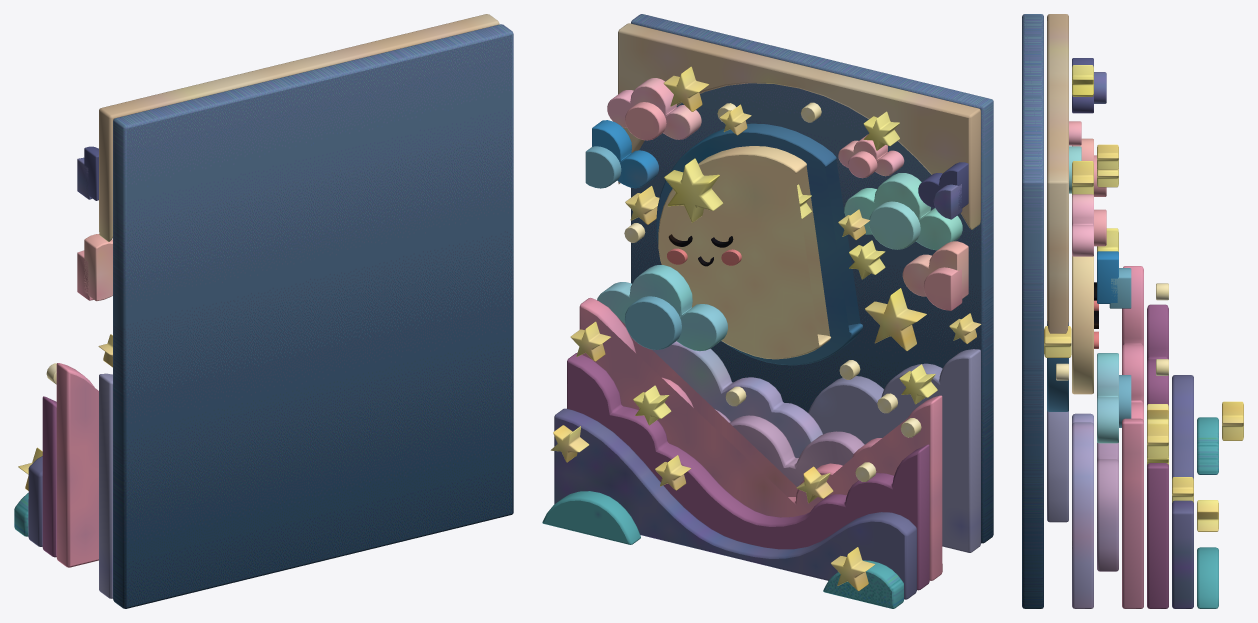
File: Level_P_35.fbx
3 views of the same model, side by side, from view 1: azimuth 30°, elevation 25°; view 2: azimuth 150°, elevation 25°; view 3: azimuth 270°, elevation 25° (orthographic). The views are drawn at different scales.
Parts seen in each view (by area): view 1: Cylinder.315, Cylinder.340, Cylinder.333, Cylinder.338, Cylinder.341, Cylinder.302, Cylinder.342, Cylinder.303; view 2: Cylinder.315, Cylinder.396, Cylinder.340, Cylinder.341, Cylinder.333, Cylinder.342, Cylinder.338, Cylinder.343, Cylinder.339, Cylinder.305, Cylinder.337, Cylinder.336 (+27 smaller); view 3: Cylinder.315, Cylinder.333, Cylinder.340, Cylinder.341, Cylinder.342, Cylinder.339, Cylinder.396, Cylinder.337, Cylinder.338, Cylinder.305, Cylinder.297, Cylinder.335 (+21 smaller).
Boxes of the visible parts, box(x1,y1,x2,y2) form: Cylinder.315: box(113, 24, 513, 608); Cylinder.340: box(56, 363, 98, 567); Cylinder.333: box(99, 14, 499, 241); Cylinder.338: box(99, 373, 112, 598); Cylinder.341: box(42, 396, 56, 557); Cylinder.302: box(84, 234, 112, 301); Cylinder.342: box(28, 456, 42, 546); Cylinder.303: box(84, 146, 98, 200); Cylinder.315: box(631, 14, 993, 543); Cylinder.396: box(658, 146, 830, 359); Cylinder.340: box(579, 298, 942, 580); Cylinder.341: box(567, 352, 929, 590); Cylinder.333: box(618, 23, 980, 229); Cylinder.342: box(554, 408, 916, 599); Cylinder.338: box(808, 349, 980, 552); Cylinder.343: box(656, 123, 862, 365); Cylinder.339: box(652, 341, 822, 457); Cylinder.305: box(597, 265, 727, 351); Cylinder.337: box(715, 409, 864, 486); Cylinder.336: box(844, 173, 962, 250); Cylinder.315: box(1022, 14, 1043, 608); Cylinder.333: box(1047, 14, 1068, 333); Cylinder.340: box(1122, 266, 1143, 608); Cylinder.341: box(1147, 304, 1168, 608); Cylinder.342: box(1172, 375, 1193, 608); Cylinder.339: box(1072, 413, 1093, 608); Cylinder.396: box(1072, 256, 1098, 394); Cylinder.337: box(1097, 442, 1118, 571); Cylinder.338: box(1047, 411, 1068, 522); Cylinder.305: box(1097, 353, 1118, 443); Cylinder.297: box(1072, 194, 1093, 256); Cylinder.335: box(1197, 547, 1218, 608).
Bounding box in the file's own units: 15.99 × 18.91 × 8.87.
